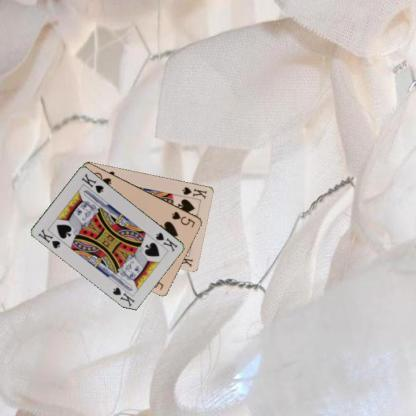5s: (170, 208, 196, 228)
Ks: (153, 229, 179, 253), (36, 227, 62, 250), (180, 184, 208, 200)
